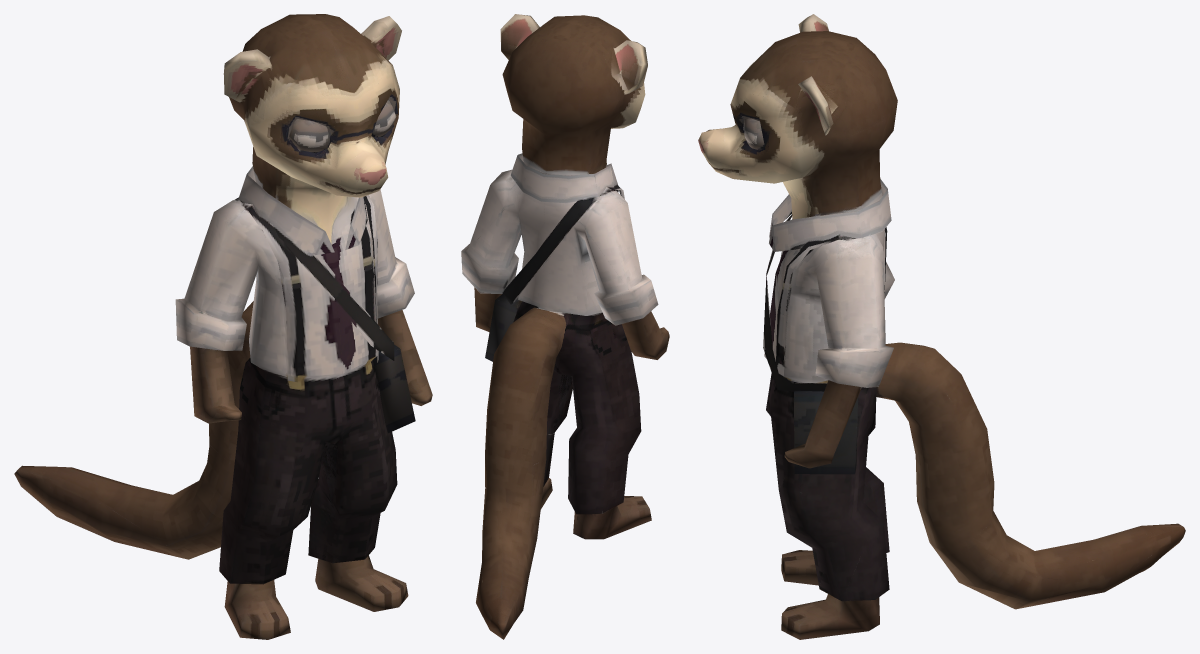
Rendered from Meshy_AI_Skink_Character_Conce_1006200934_texture.glb.
3 renders of one model, left to right at view 1: azimuth 30°, elevation 25°; view 2: azimuth 150°, elevation 25°; view 3: azimuth 270°, elevation 25°, orthographic. The views are drawn at different scales.
Bounding box in the file's own units: 0.3846 × 1 × 0.7596.
Materials: 1 (1 with a texture image).
